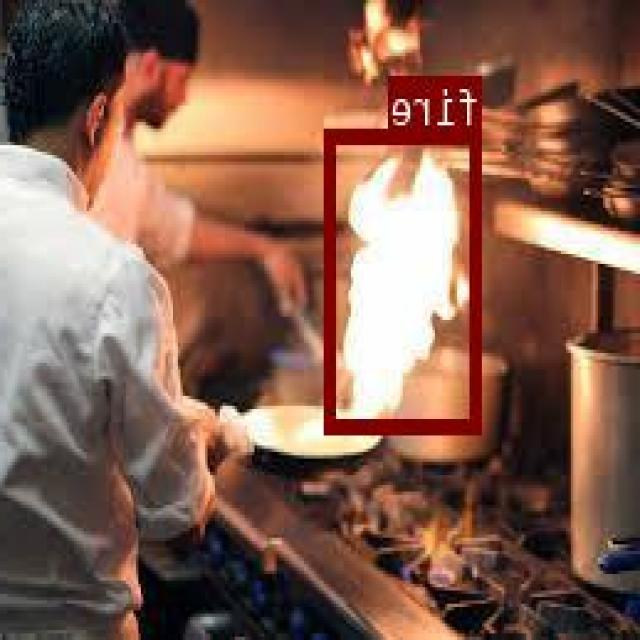fire: (326, 127, 484, 432)
